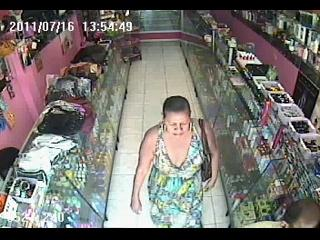Normal: (129, 96, 220, 228)
